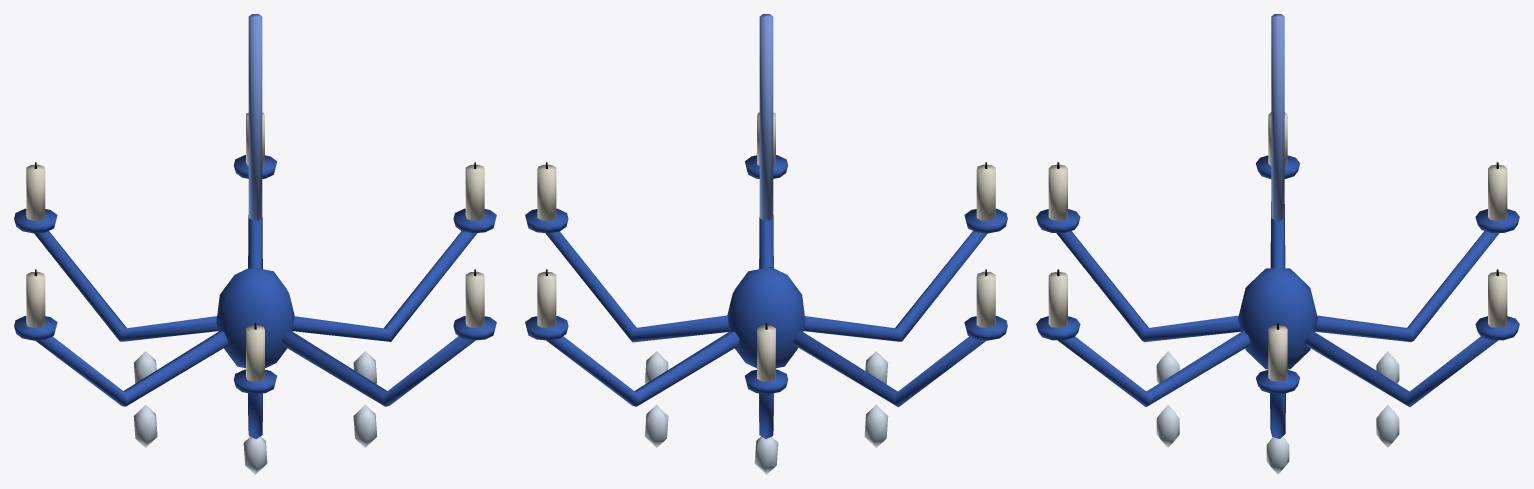
The model's file is mushroom_chandelier_v0.glb.
3 renders of one model, left to right at view 1: azimuth 30°, elevation 25°; view 2: azimuth 150°, elevation 25°; view 3: azimuth 270°, elevation 25°, orthographic.
Parts seen in each view (by area): view 1: mushroom_chandelier_v0; view 2: mushroom_chandelier_v0; view 3: mushroom_chandelier_v0.
Boxes of the visible parts, x1=… form: mushroom_chandelier_v0: x1=14, y1=14, x2=496, y2=474; mushroom_chandelier_v0: x1=525, y1=14, x2=1007, y2=474; mushroom_chandelier_v0: x1=1036, y1=14, x2=1519, y2=474.
Size of the model in its own units: 1.24 by 1 by 1.09.
